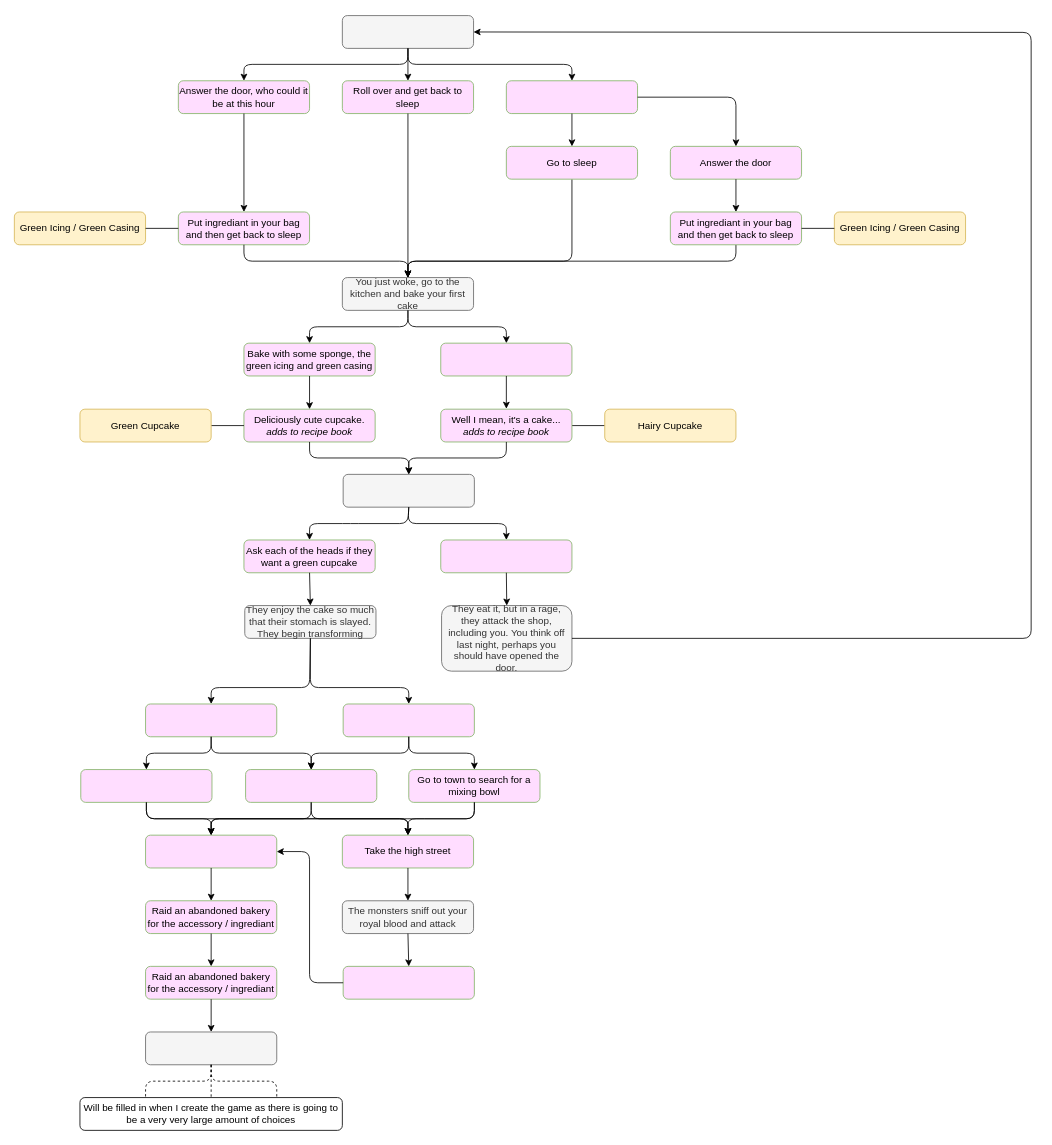
Image size: 1052x1145. Some labels were removed from this diagram. Each missing label, with the centre of its shape:
A Chimera strolls though the door roaring!: pixel 408 490
Ask each of the heads if they want a hairy cupcake: pixel 506 556
Bake with basic ingrediants. This won't taste good.: pixel 506 359
Go to town to search for a sponge ingrediant: pixel 311 785
Go to town to search for a wooden spoon: pixel 146 785
Peek out the curtain to see who it is: pixel 572 97
Retreat: pixel 408 982
Riley wants to give you a reward accept the wooden spoon: pixel 408 720
Riley wants to give you a reward, accept the mixing bowl: pixel 211 720
Take the back road: pixel 211 851
Wake up in the middle of the night as someone is at the door.: pixel 408 31
You now have what it takes to bake a delicious cake for the next attack: pixel 211 1048
